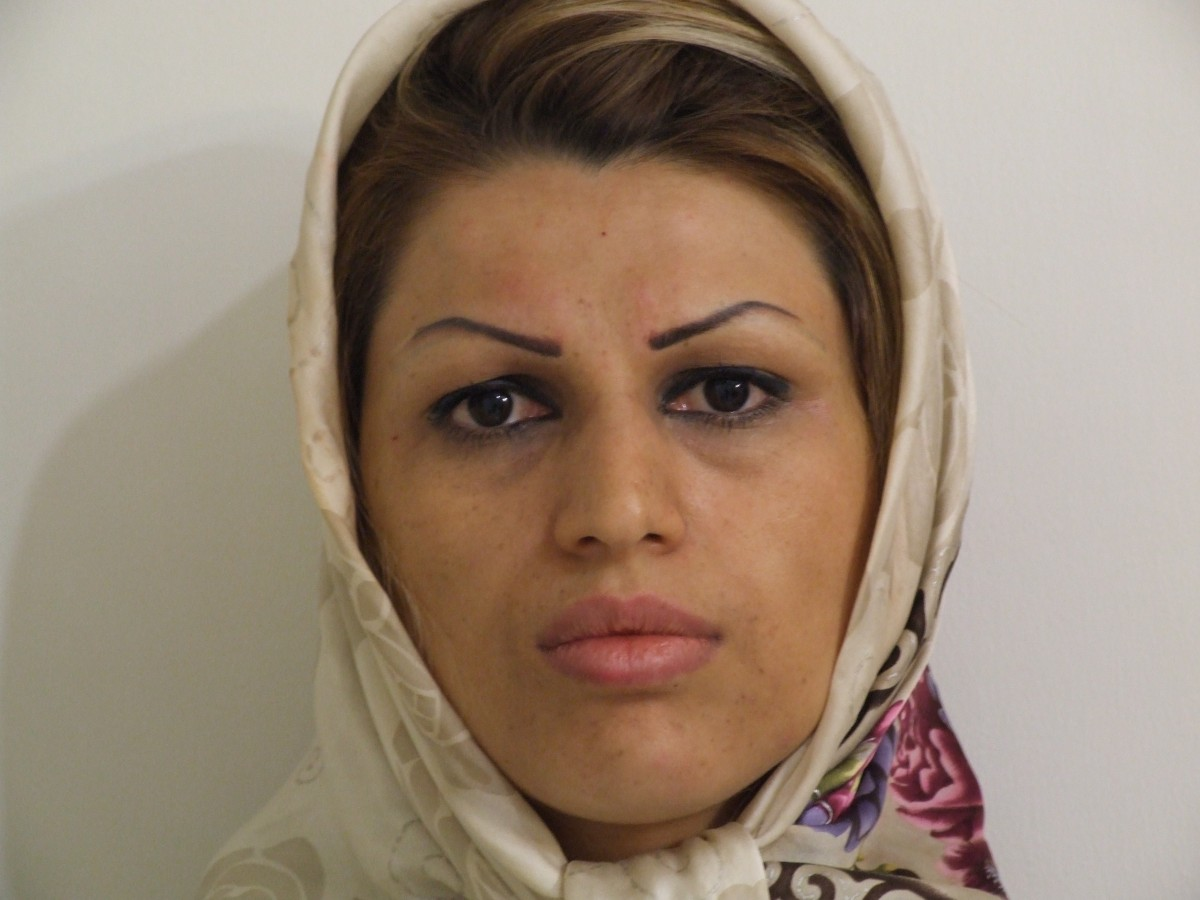neo: (465, 499, 513, 555), (572, 288, 597, 363), (607, 740, 644, 769), (585, 224, 621, 252), (749, 662, 774, 693), (794, 669, 823, 695), (365, 474, 388, 495), (385, 432, 407, 453)
occhiaia: (663, 423, 812, 489)
